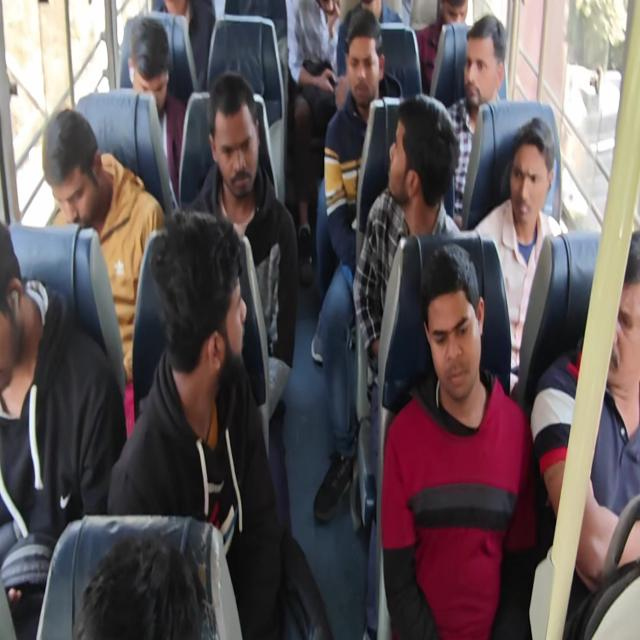person: (86, 518, 237, 640), (146, 233, 254, 385), (382, 102, 460, 225), (417, 265, 487, 396), (593, 237, 640, 406), (208, 88, 270, 200), (509, 121, 563, 245), (51, 112, 107, 224), (0, 226, 24, 398), (130, 17, 172, 105), (461, 20, 500, 101), (343, 30, 382, 98), (430, 0, 467, 47)
